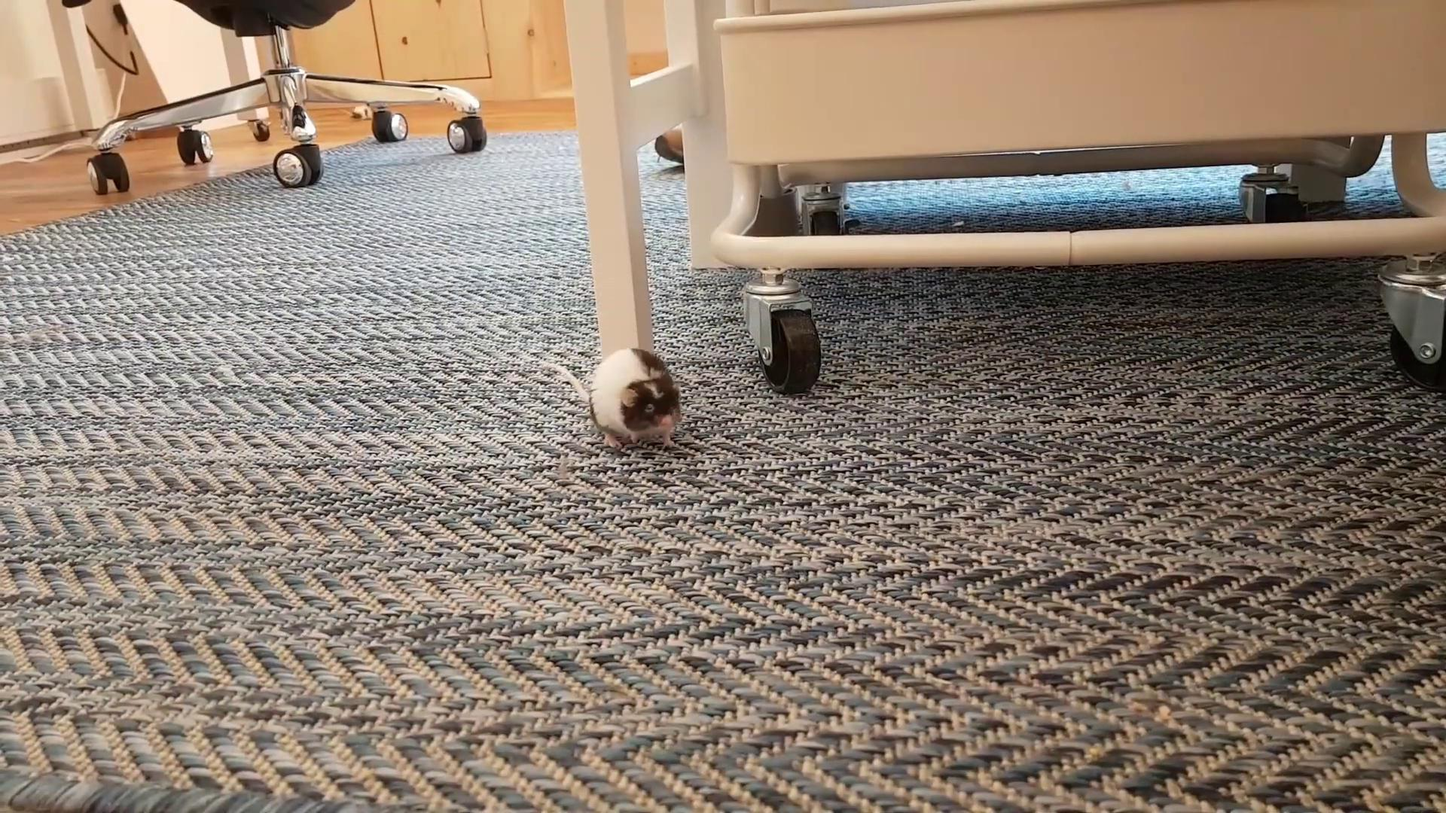rat: (537, 350, 682, 454)
